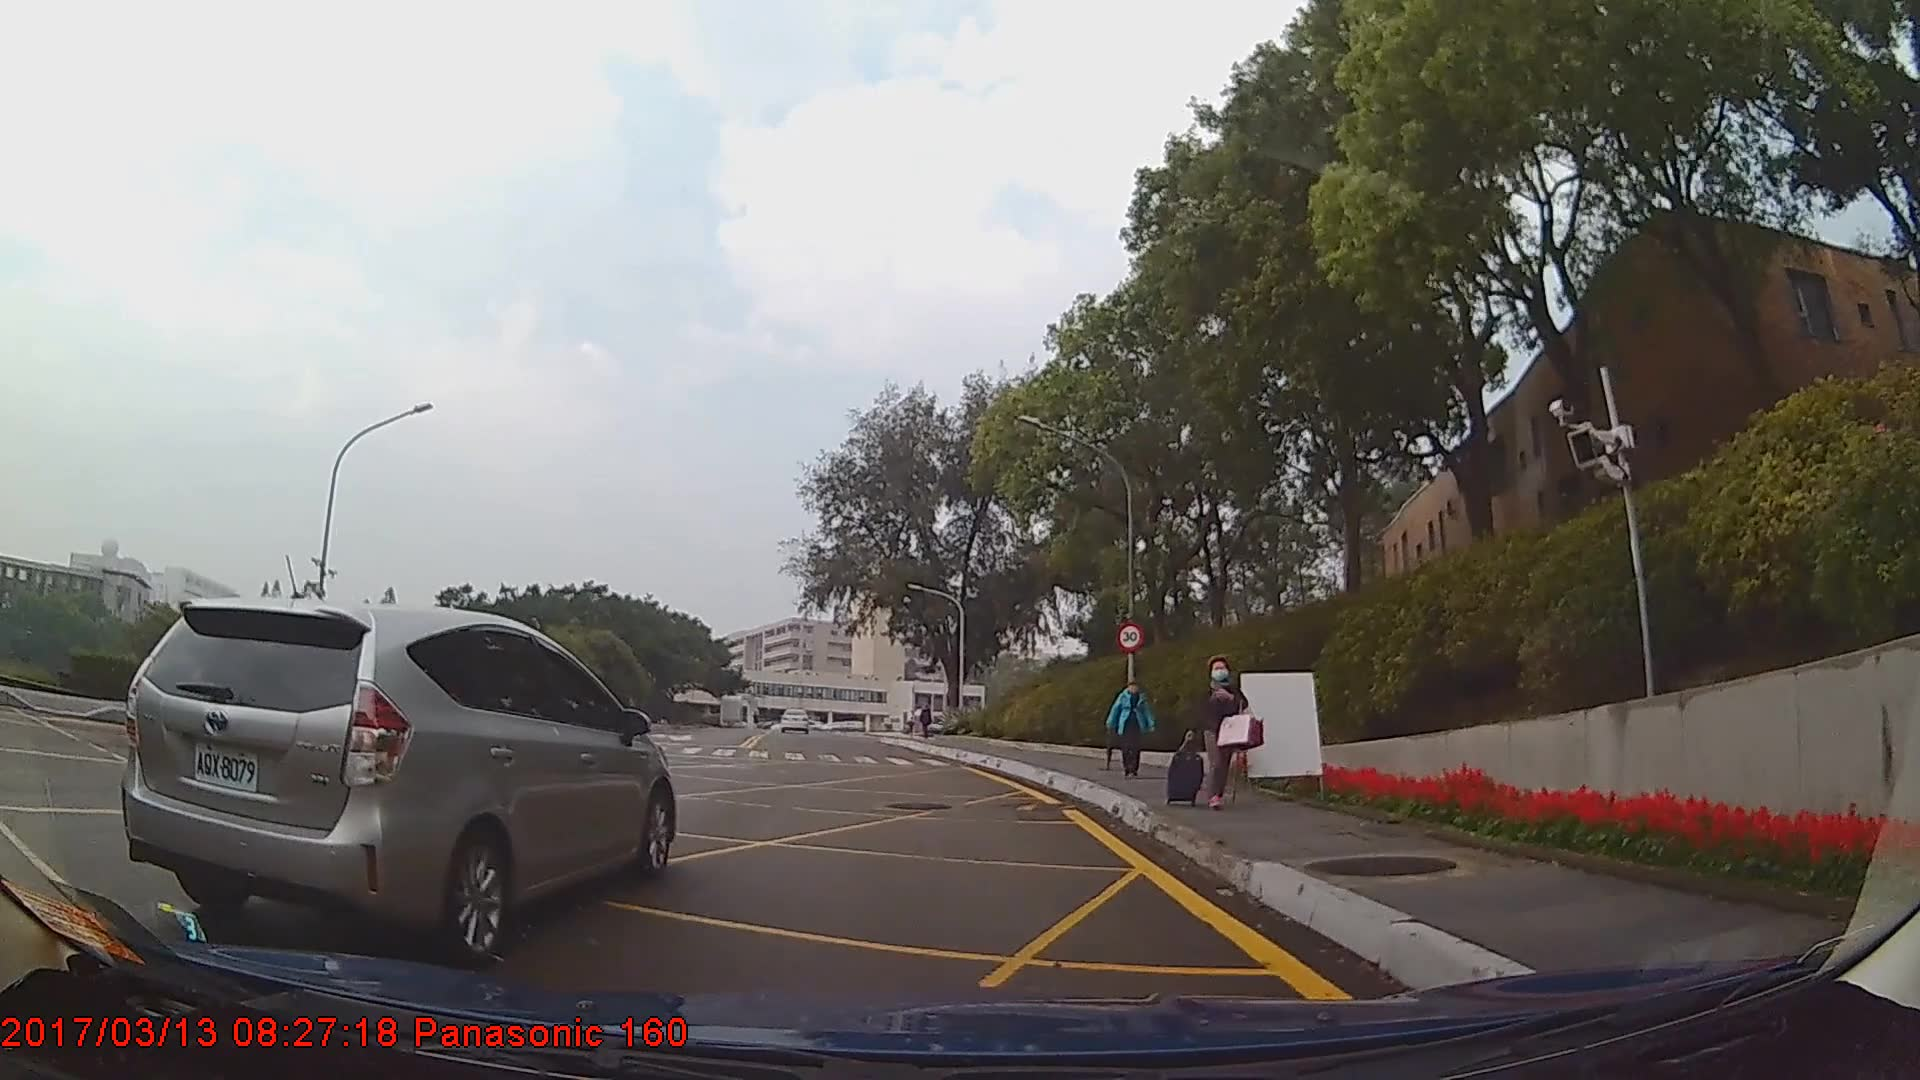pedestrian: (1167, 653, 1267, 814), (1109, 680, 1157, 783)
vehicle: (119, 598, 678, 962), (778, 703, 810, 735)
